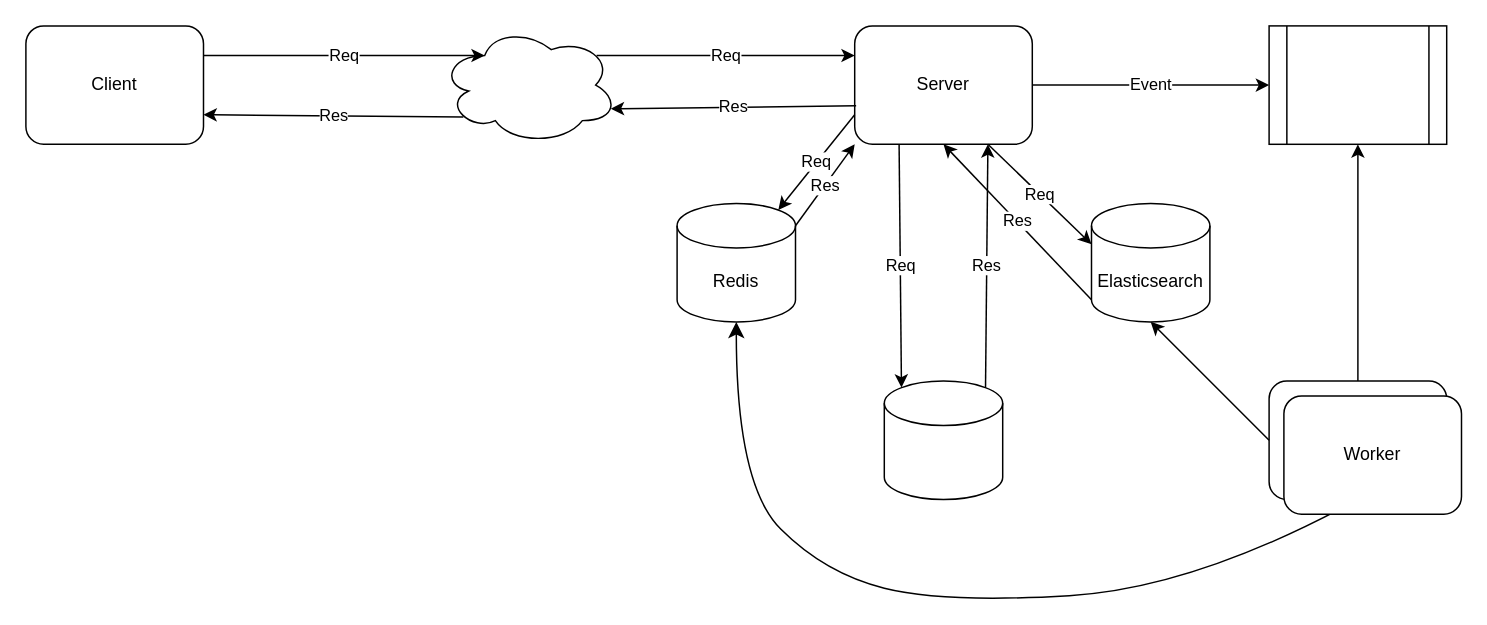
Image size: 1487x625. Some labels were removed from this diagram. Here are the shapes that lost their labels. From the top down, the centre of each, then its label:
At pixel 528 84: "CDN/ADN".
At pixel 1357 84: "Message Broker".
At pixel 943 440: "RDB".
